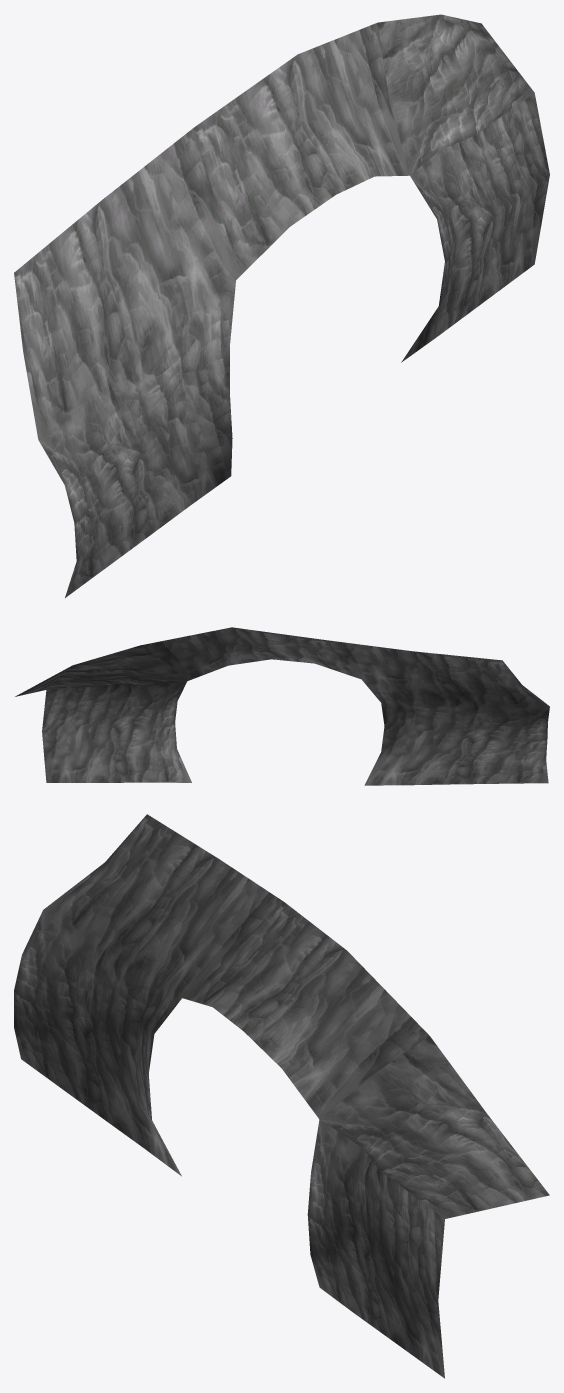
File: SWORDLIGHT20_PS-AREA04_20.fbx
The picture shows the model from 3 angles, top to bottom: view 1: azimuth 30°, elevation 25°; view 2: azimuth 150°, elevation 25°; view 3: azimuth 270°, elevation 25°; orthographic projection. The views are drawn at different scales.
Parts seen in each view (by area): view 1: SWORDLIGHT20_PS-AREA04_20; view 2: SWORDLIGHT20_PS-AREA04_20; view 3: SWORDLIGHT20_PS-AREA04_20.
Part boxes in pixels (left/top/right/bottom): SWORDLIGHT20_PS-AREA04_20: left=14, top=14, right=549, bottom=597; SWORDLIGHT20_PS-AREA04_20: left=15, top=627, right=549, bottom=785; SWORDLIGHT20_PS-AREA04_20: left=14, top=814, right=549, bottom=1378.
Bounding box in the file's own units: 156745 × 66035 × 108062.
Materials: 1 (1 with a texture image).
